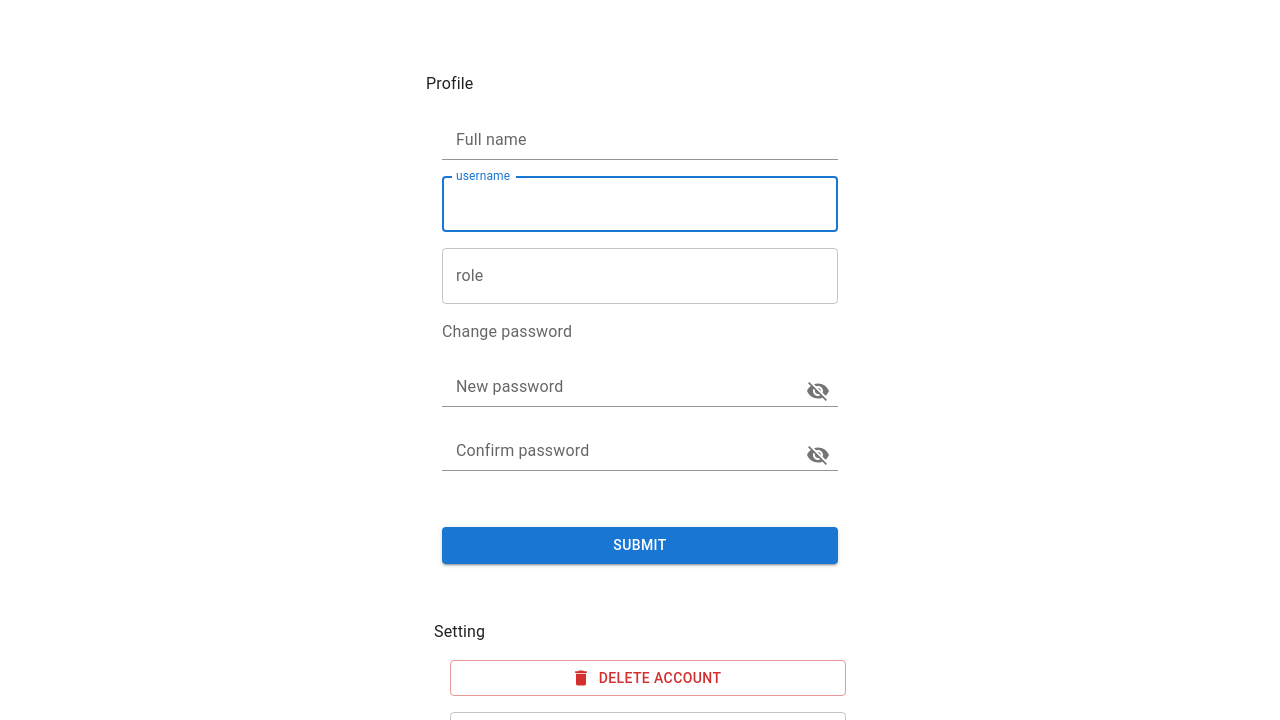
Scenario: delete account works properly
What coordinates should you click on to do the following:
click the button "Delete account"
I would click on:
 (648, 678)
Its box is [450,660,846,696].
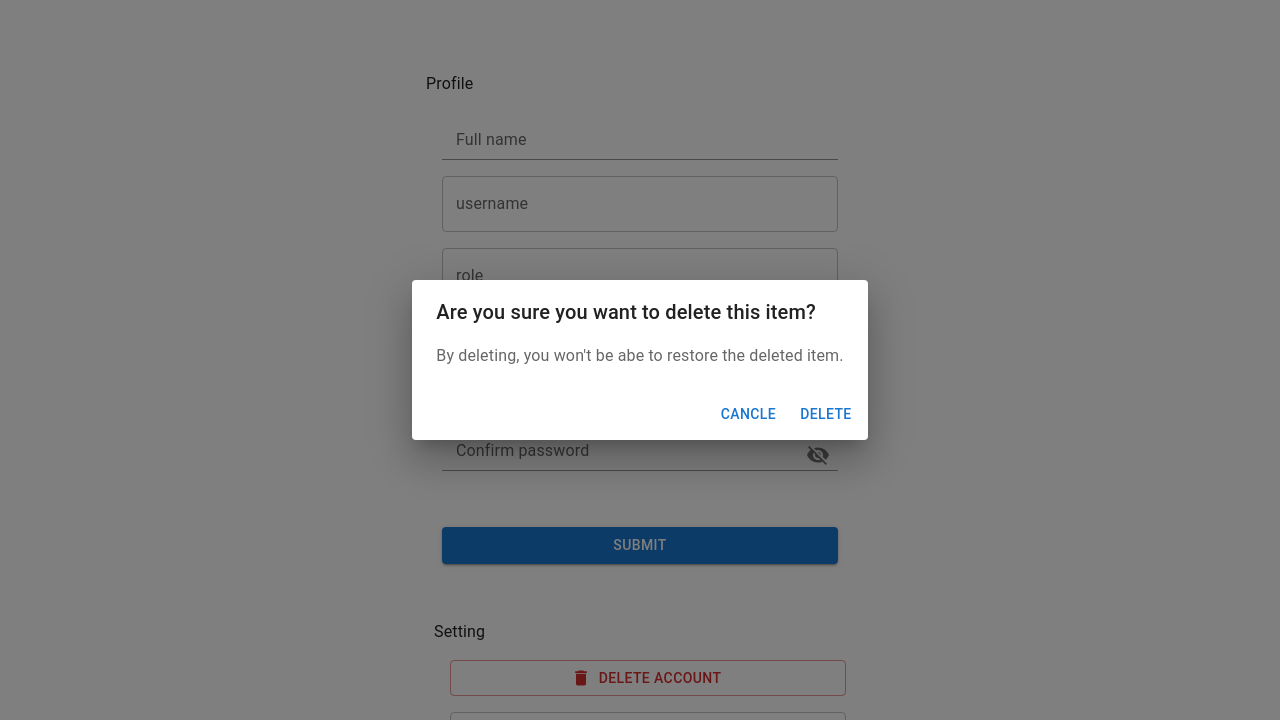
Now the button "cancle" is shown
What coordinates should you click on to do the following:
click the button "cancle"
I would click on:
 (748, 414)
Its box is [713,396,784,432].
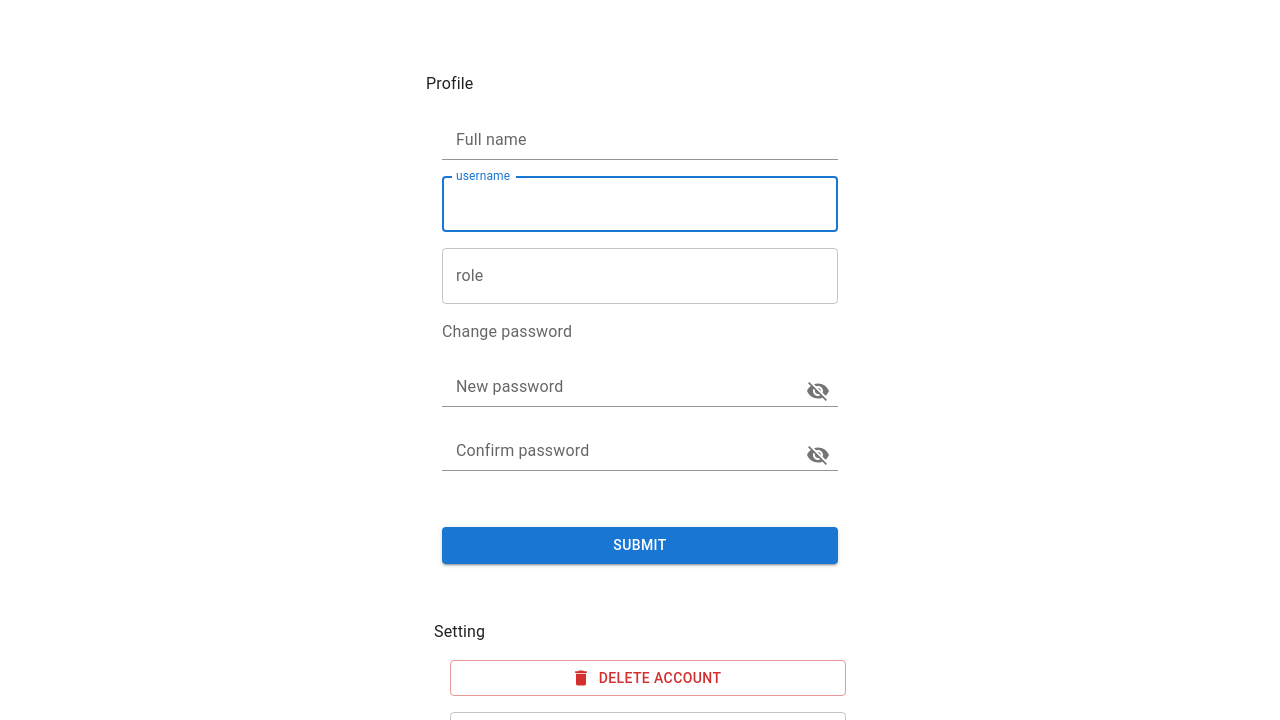
Now the dialog is gone
